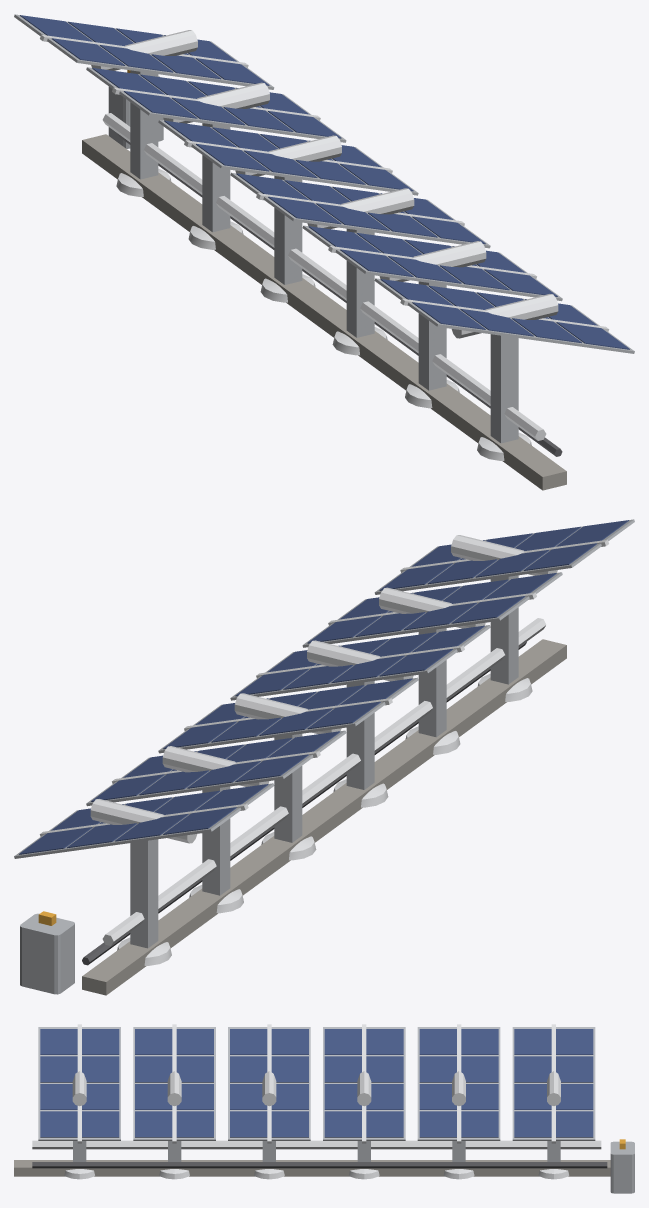
Rendered from solar-array-row-tracke-e35a3b96.glb.
The picture shows the model from 3 angles, top to bottom: view 1: azimuth 30°, elevation 25°; view 2: azimuth 150°, elevation 25°; view 3: azimuth 270°, elevation 25°; orthographic projection. The views are drawn at different scales.
Parts seen in each view (by area): view 1: solar-array-row-tracker, array-6 (×2), array-4 (×2), array-3 (×2), array-2 (×2), array-1 (×2), array-5 (×2); view 2: solar-array-row-tracker, array-1 (×2), array-3 (×2), array-4 (×2), array-5 (×2), array-6 (×2), array-2 (×2); view 3: solar-array-row-tracker, array-1 (×2), array-2 (×2), array-6 (×2), array-3 (×2), array-4 (×2), array-5 (×2).
Part boxes in pixels (x1,y1,x2,y2): solar-array-row-tracker: (40, 30, 609, 490); array-6 (×2): (374, 278, 634, 353); array-4 (×2): (230, 172, 490, 248); array-3 (×2): (158, 120, 418, 195); array-2 (×2): (86, 67, 346, 142); array-1 (×2): (14, 14, 274, 89); array-5 (×2): (302, 225, 562, 301); solar-array-row-tracker: (20, 535, 608, 995); array-1 (×2): (14, 783, 274, 858); array-3 (×2): (158, 677, 418, 753); array-4 (×2): (230, 625, 490, 700); array-5 (×2): (302, 572, 562, 647); array-6 (×2): (374, 519, 634, 594); array-2 (×2): (86, 730, 346, 806); solar-array-row-tracker: (14, 1024, 634, 1193); array-1 (×2): (512, 1027, 595, 1140); array-2 (×2): (417, 1027, 500, 1140); array-6 (×2): (38, 1027, 120, 1140); array-3 (×2): (323, 1027, 405, 1140); array-4 (×2): (228, 1027, 310, 1140); array-5 (×2): (133, 1027, 215, 1140).
Size of the model in its own units: 2.55 by 2.09 by 10.15.
